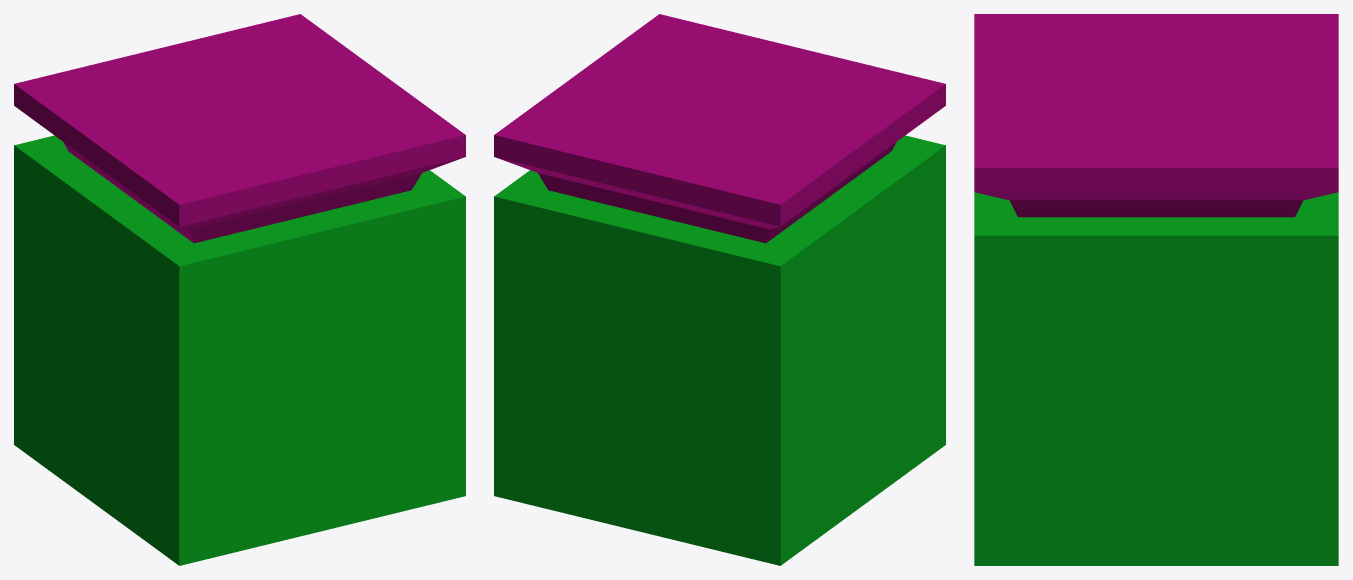
The model's file is AnimatedBox_000187.obj.
3 renders of one model, left to right at view 1: azimuth 30°, elevation 25°; view 2: azimuth 150°, elevation 25°; view 3: azimuth 270°, elevation 25°, orthographic. The views are drawn at different scales.
Parts seen in each view (by area): view 1: Cube, Cube.001; view 2: Cube, Cube.001; view 3: Cube, Cube.001.
Part boxes in pixels (x1=…): Cube: x1=14, y1=135, x2=465, y2=565; Cube.001: x1=14, y1=14, x2=465, y2=243; Cube: x1=494, y1=135, x2=945, y2=565; Cube.001: x1=494, y1=14, x2=945, y2=243; Cube: x1=974, y1=192, x2=1338, y2=565; Cube.001: x1=974, y1=14, x2=1338, y2=217.
Bounding box in the file's own units: 2 × 2.41 × 2.
